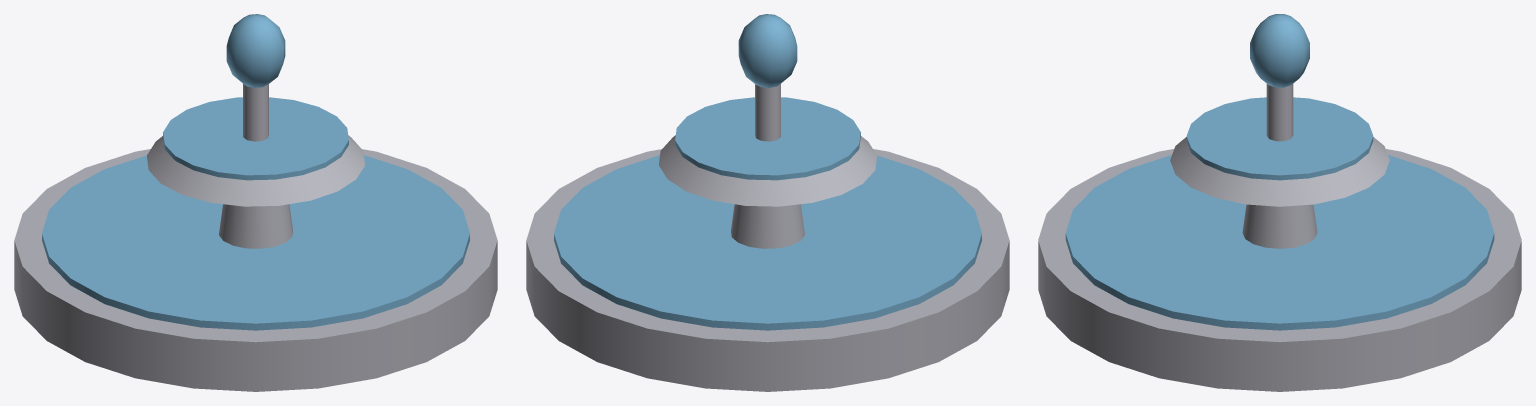
The model's file is fountain.glb.
3 renders of one model, left to right at view 1: azimuth 30°, elevation 25°; view 2: azimuth 150°, elevation 25°; view 3: azimuth 270°, elevation 25°, orthographic.
Visible parts, largest first — view 1: fountain; view 2: fountain; view 3: fountain.
Part boxes in pixels (<box>): fountain: <box>14,14,497,391</box>; fountain: <box>526,14,1009,391</box>; fountain: <box>1038,14,1521,391</box>.
Size of the model in its own units: 4.4 by 2.75 by 4.4.
